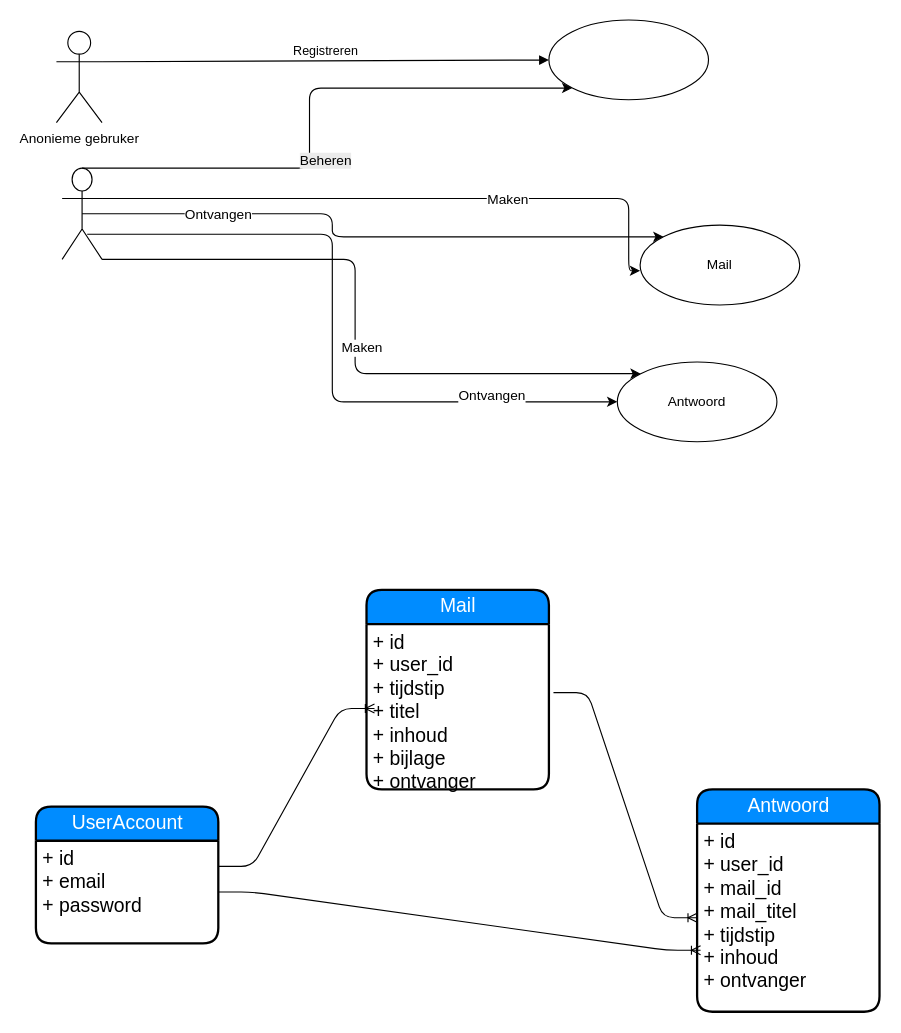
This 901x1033 diagram has some shape labels left out. Here are the shapes that lost their labels. From the top down, the centre of each, then its label:
At point (628, 59): "User account".
At point (81, 213): "Ingelogde gebruiker".
